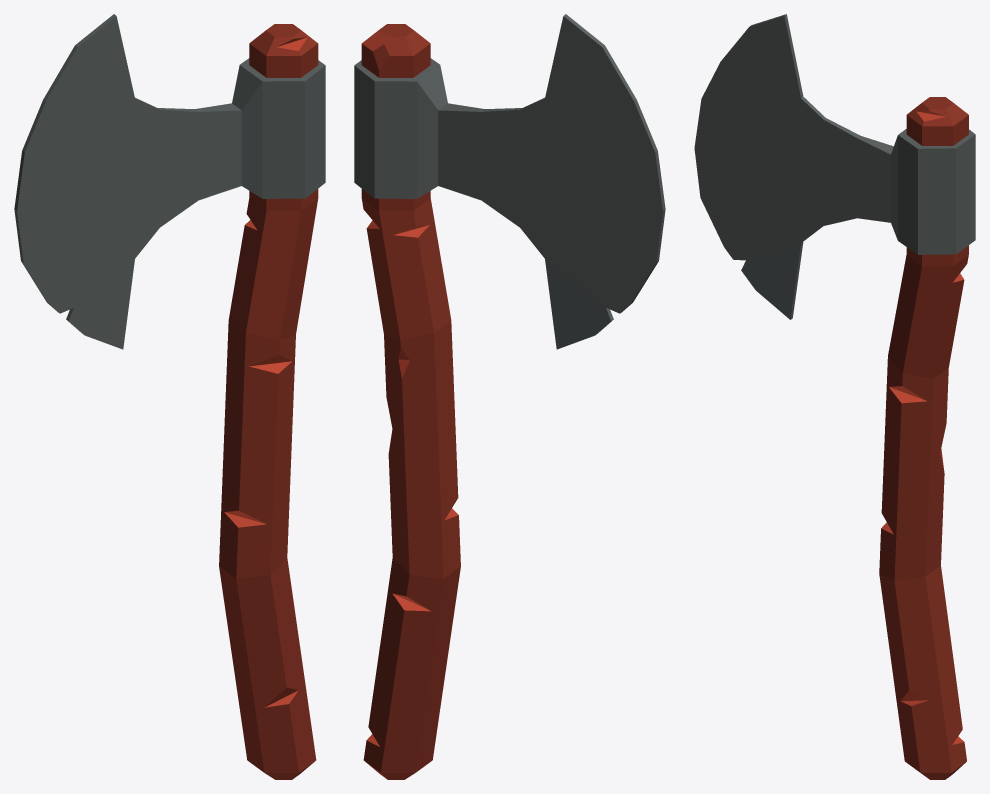
File: Axe_3_Red.fbx
3 renders of one model, left to right at view 1: azimuth 30°, elevation 25°; view 2: azimuth 150°, elevation 25°; view 3: azimuth 330°, elevation 25°, orthographic. The views are drawn at different scales.
Visible parts, largest first — view 1: Axe_3_Red_Part_3, Axe_3_Red_Part_1, Axe_3_Red_Part_2; view 2: Axe_3_Red_Part_3, Axe_3_Red_Part_1, Axe_3_Red_Part_2; view 3: Axe_3_Red_Part_3, Axe_3_Red_Part_1, Axe_3_Red_Part_2.
Part boxes in pixels (x1,y1,x2,y2): Axe_3_Red_Part_3: (14,14,325,349); Axe_3_Red_Part_1: (219,24,318,779); Axe_3_Red_Part_2: (224,37,307,707); Axe_3_Red_Part_3: (354,14,665,349); Axe_3_Red_Part_1: (361,24,460,779); Axe_3_Red_Part_2: (362,30,458,746); Axe_3_Red_Part_3: (694,14,975,319); Axe_3_Red_Part_1: (879,97,968,779); Axe_3_Red_Part_2: (881,110,964,744).
Size of the model in its own units: 43.03 by 110 by 10.87.
